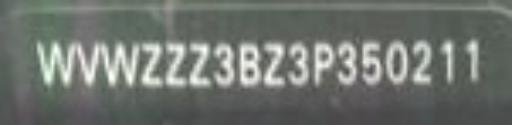letter: (33, 37, 77, 86), (102, 41, 142, 90), (383, 37, 413, 90), (74, 37, 102, 86), (162, 41, 190, 90), (186, 41, 214, 90), (236, 41, 264, 90), (460, 37, 488, 84), (284, 40, 312, 87), (434, 37, 460, 86), (264, 37, 288, 90), (142, 40, 166, 93), (332, 40, 358, 87), (410, 40, 436, 87), (360, 37, 382, 86), (214, 41, 236, 90), (312, 40, 334, 87)
